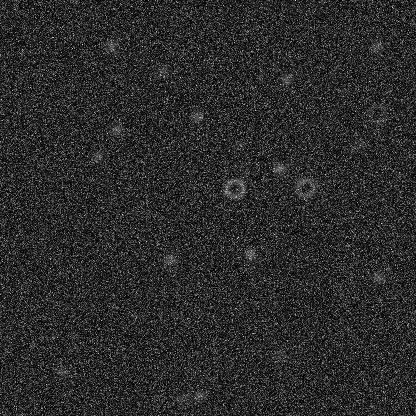Ring: (222, 176, 246, 200), (364, 101, 388, 125), (293, 176, 317, 200)
Spot: (352, 135, 368, 151), (89, 148, 105, 164), (52, 363, 68, 379), (370, 269, 386, 285), (367, 39, 383, 55), (161, 251, 177, 267), (272, 160, 288, 176), (103, 37, 119, 53), (231, 135, 247, 151), (108, 121, 124, 137), (99, 222, 115, 238), (191, 387, 207, 403), (189, 108, 205, 124), (154, 62, 170, 78), (242, 245, 258, 261), (270, 347, 286, 363), (236, 165, 252, 181), (173, 391, 189, 407), (278, 71, 294, 87), (253, 66, 269, 82)
